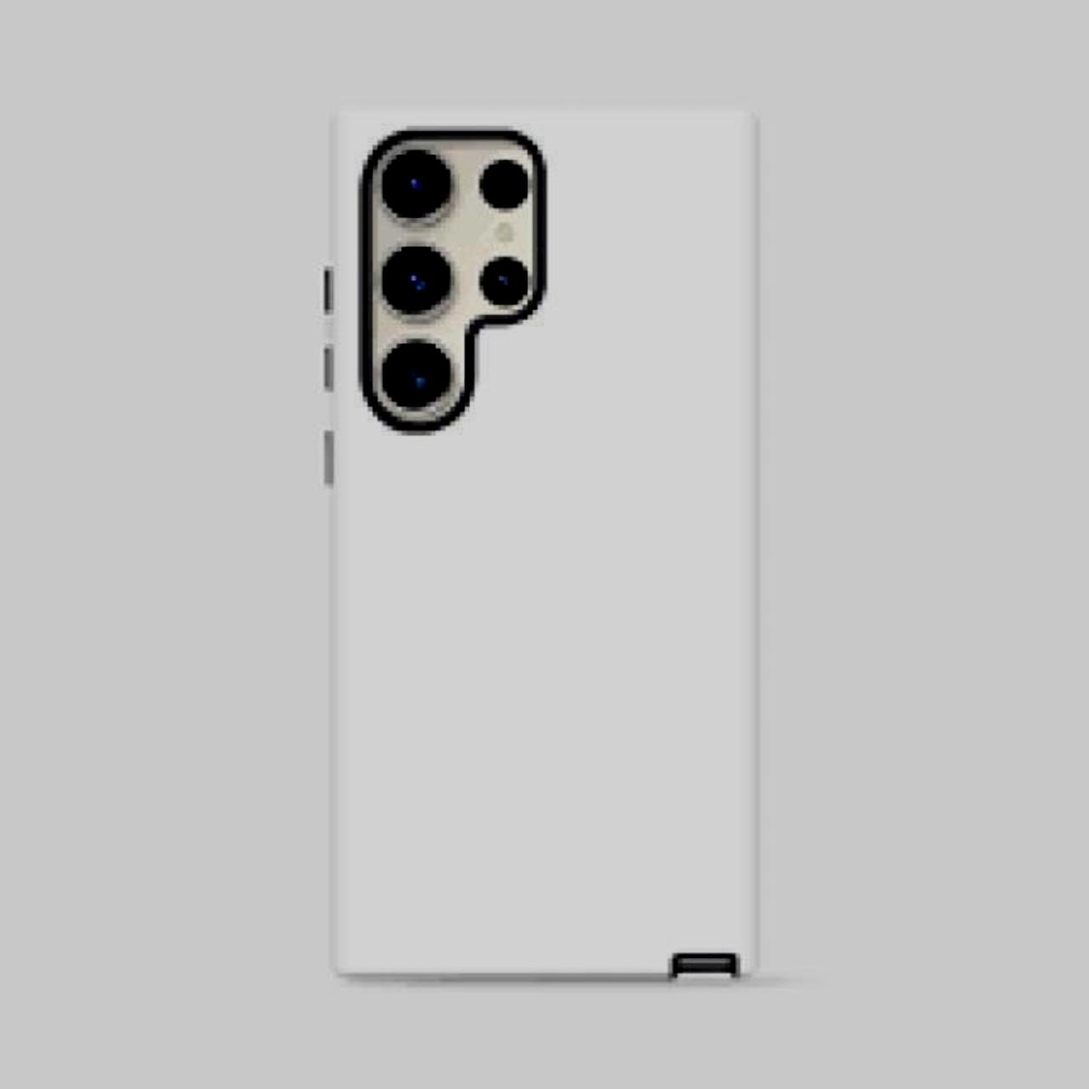phone: (306, 88, 761, 982)
